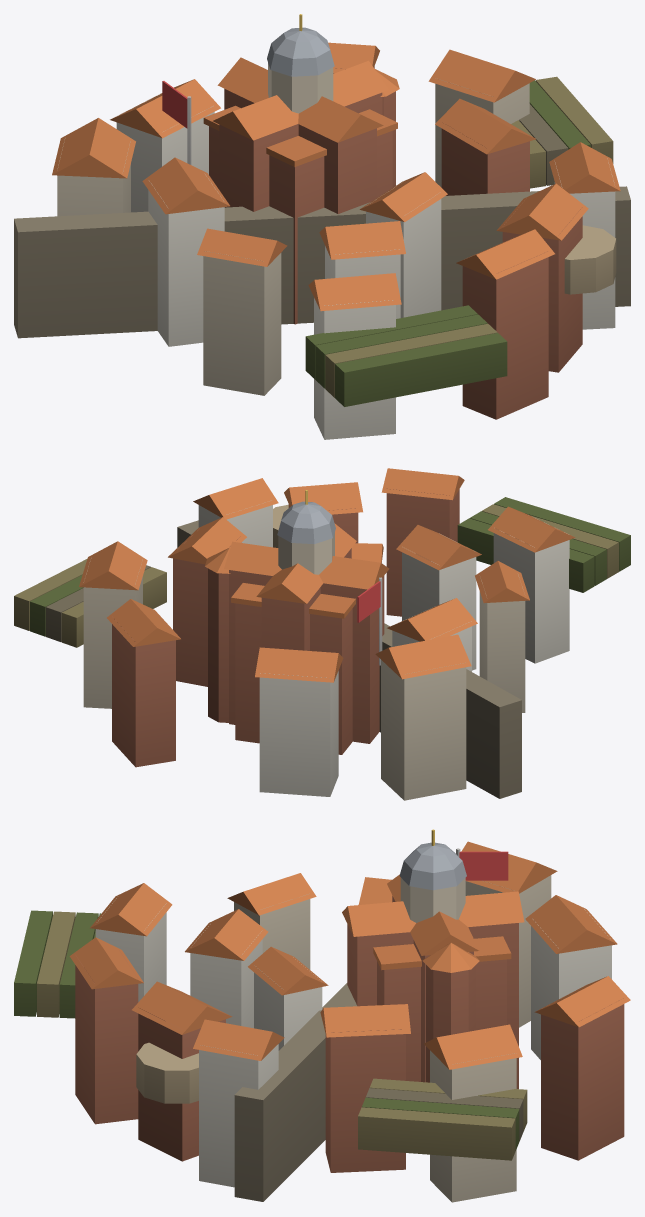
The model's file is village_byz_a.glb.
The picture shows the model from 3 angles, top to bottom: view 1: azimuth 30°, elevation 25°; view 2: azimuth 150°, elevation 25°; view 3: azimuth 270°, elevation 25°; orthographic projection. The views are drawn at different scales.
Parts seen in each view (by area): view 1: village_byz_a; view 2: village_byz_a; view 3: village_byz_a.
Boxes of the visible parts, bbox=[...] form: village_byz_a: bbox=[14, 14, 630, 439]; village_byz_a: bbox=[14, 468, 630, 800]; village_byz_a: bbox=[14, 829, 630, 1202].
Size of the model in its own units: 2 by 0.9202 by 1.97.
